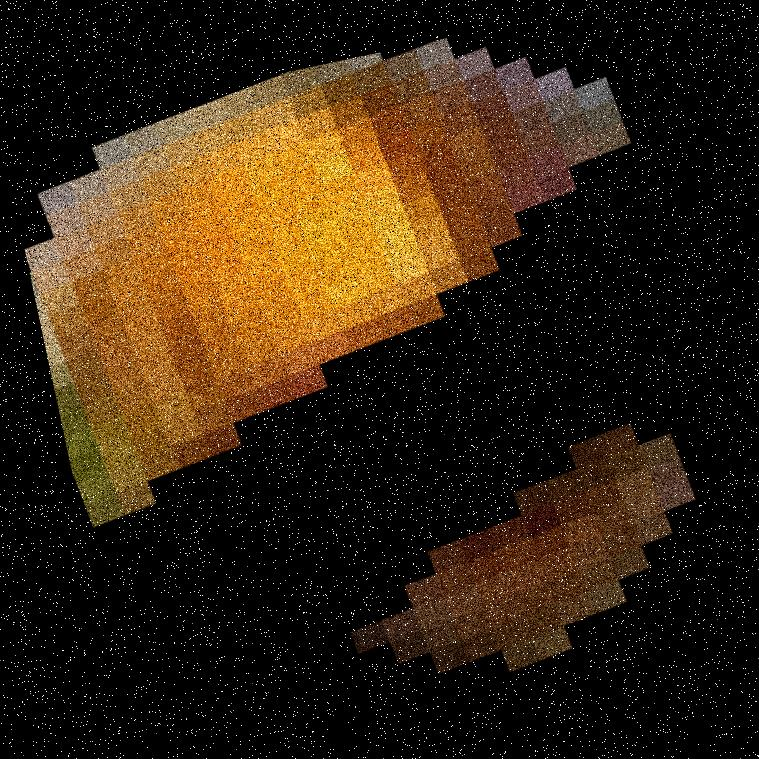Capacete: (329, 0, 572, 758)
